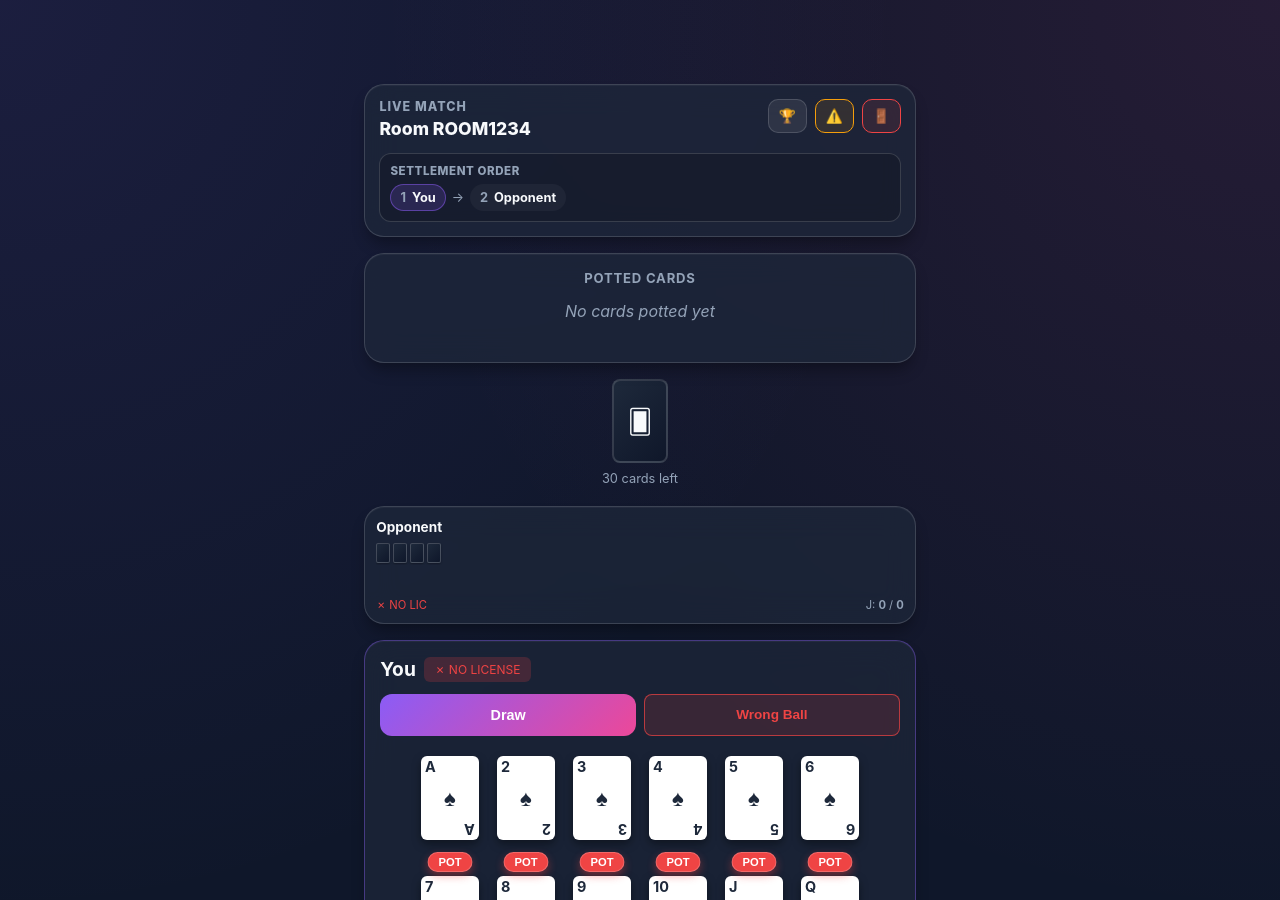
Test case: GameScreen batched visit flow › disables wrong-ball confirm when no ranks remain
This screenshot has width=1280, height=900.
What coordinates should you click on to do the following:
click the button "Wrong Ball"
I would click on:
 (772, 715)
Its box is [644,694,900,736].
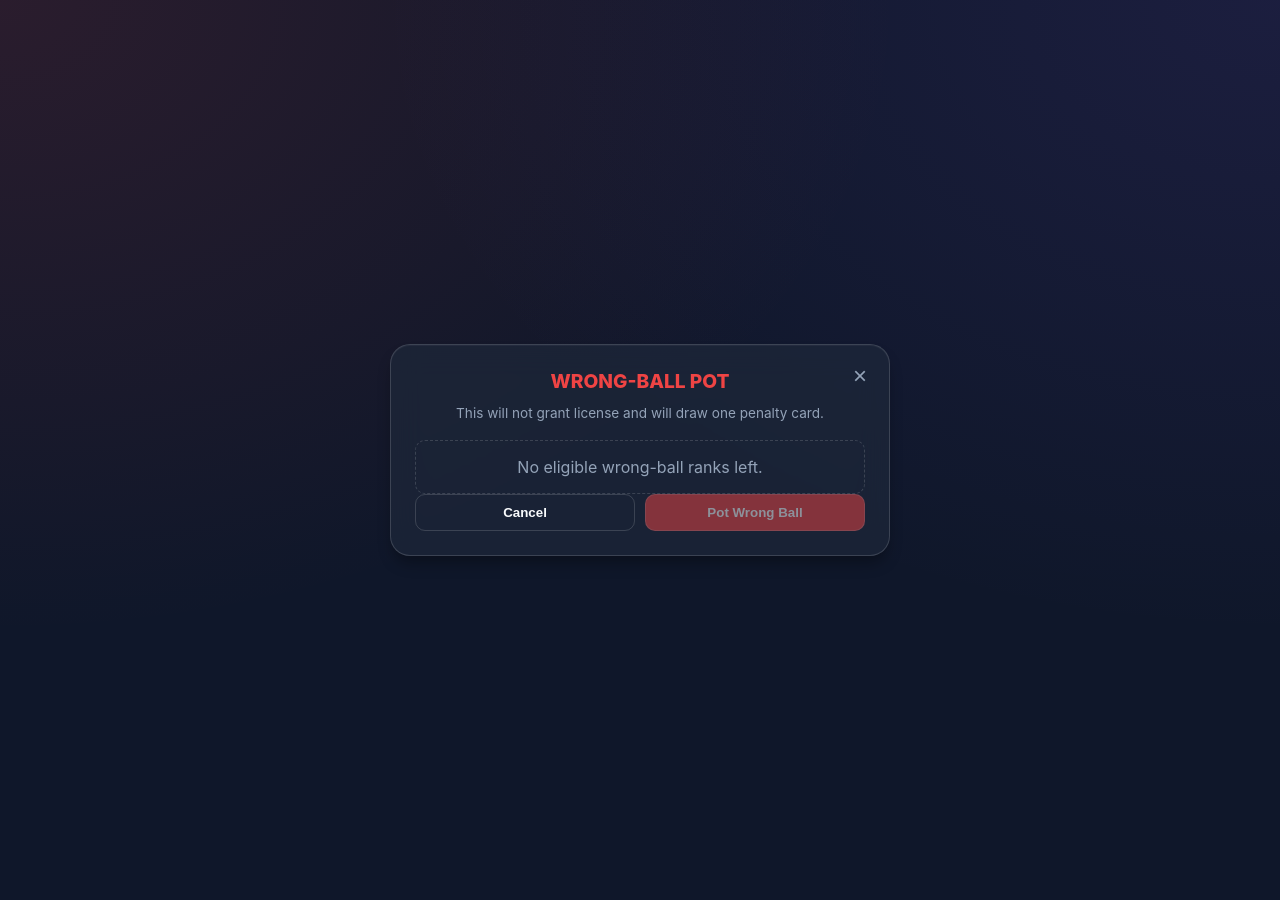
Expected: the text "No eligible wrong-ball ranks left." is shown, [415,440,865,494]
Expected: the button "Pot Wrong Ball" is disabled, [645,494,865,531]
